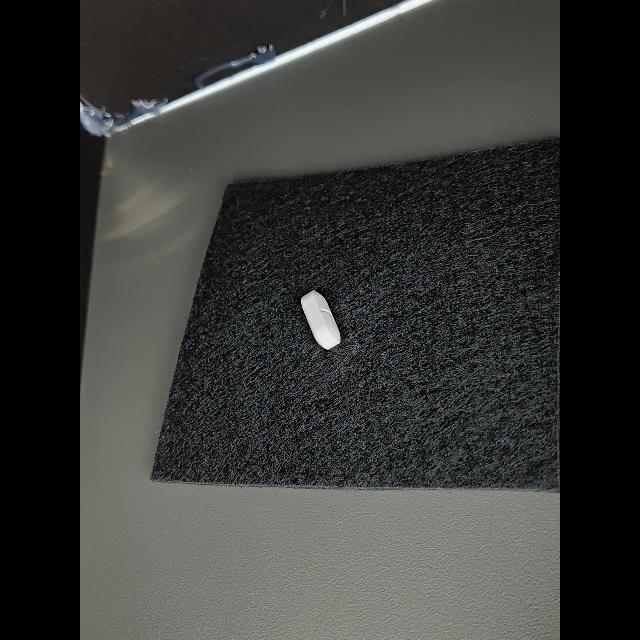Intact Pill: (301, 290, 340, 350)
